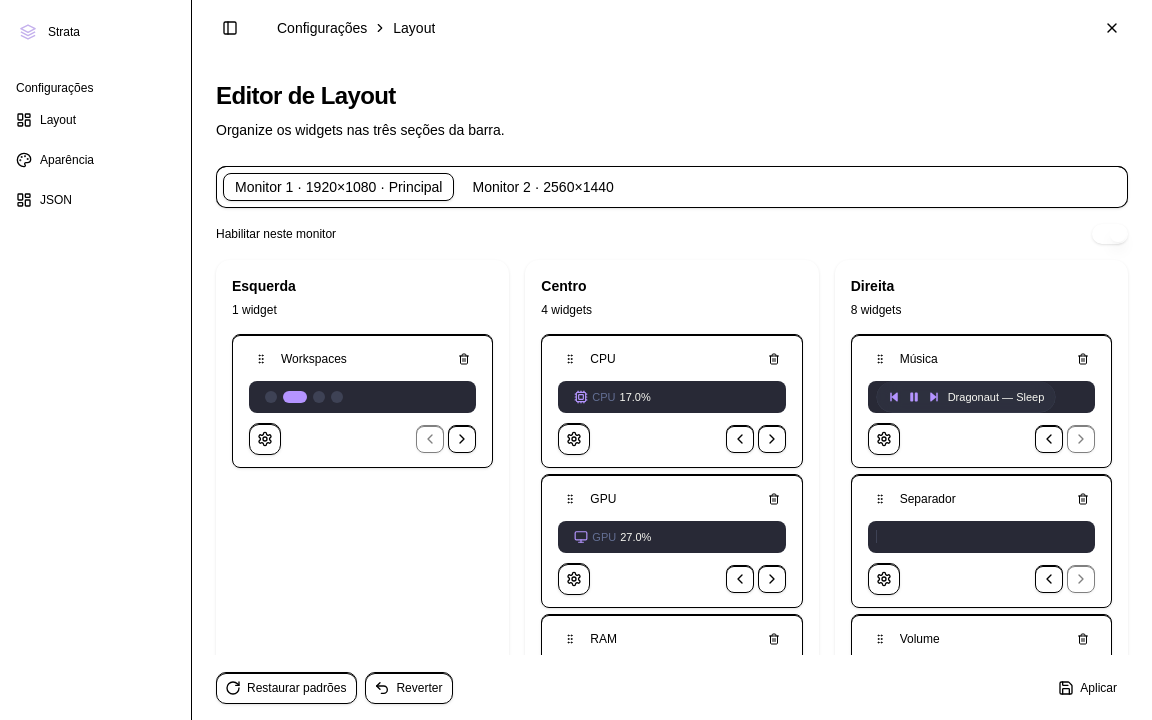
Test: explains that Revert did not save and clears the notice after Apply
This screenshot has width=1152, height=720.
Expected: the button "Aplicar" is enabled, [1049,672,1128,704]
Click the button "Reverter". click: [409, 688]
box: [365,672,453,704]
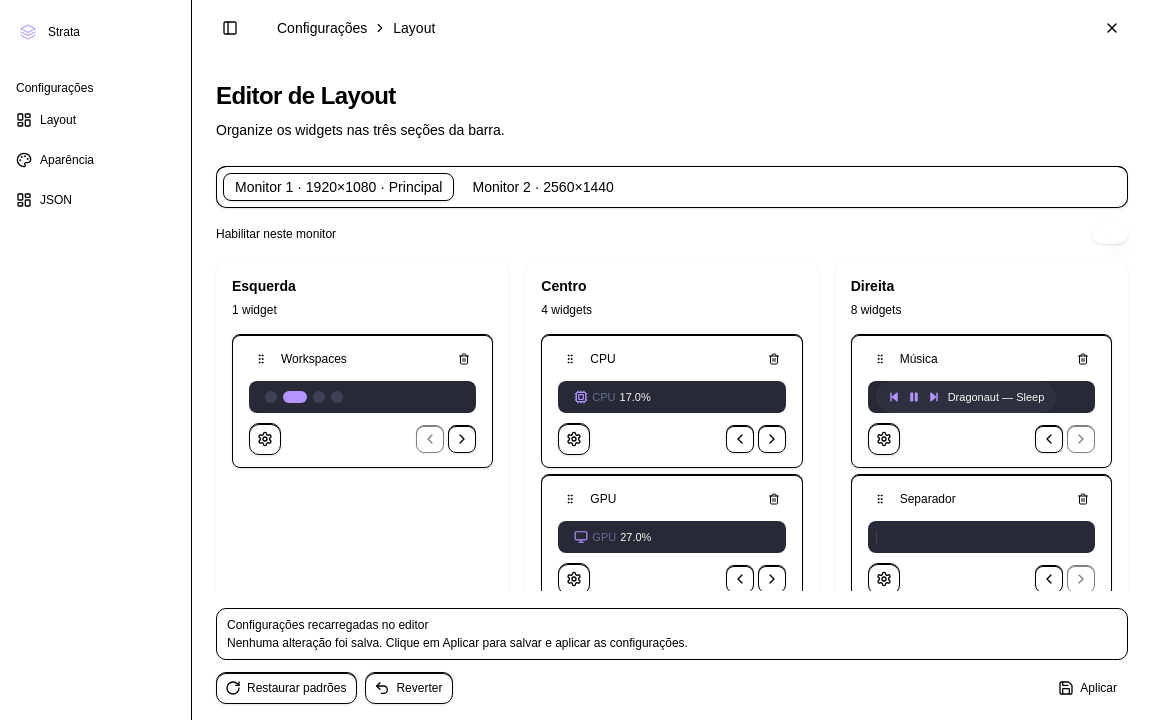
Expected: the text "Nenhuma alteração foi salva" shows "Clique em Aplicar para salvar e aplicar", [227,636,688,650]
Click the button "Aplicar". click: [1089, 688]
box: [1049,672,1128,704]
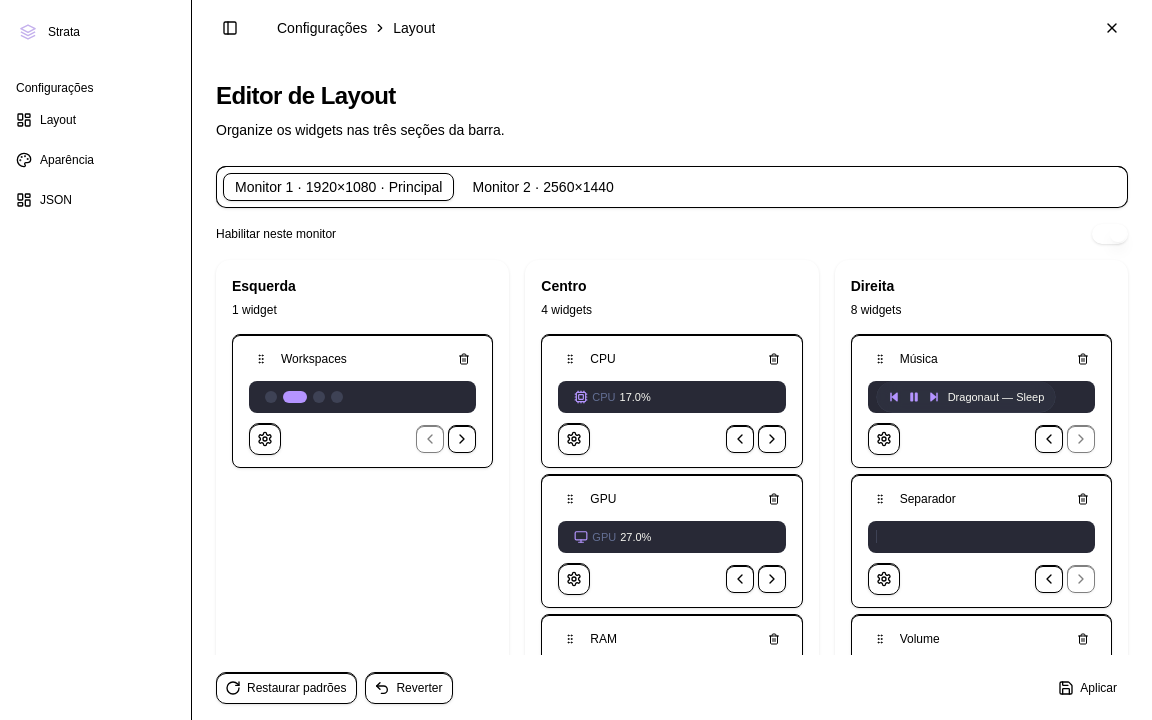
Expected: the text "Nenhuma alteração foi salva" is gone
